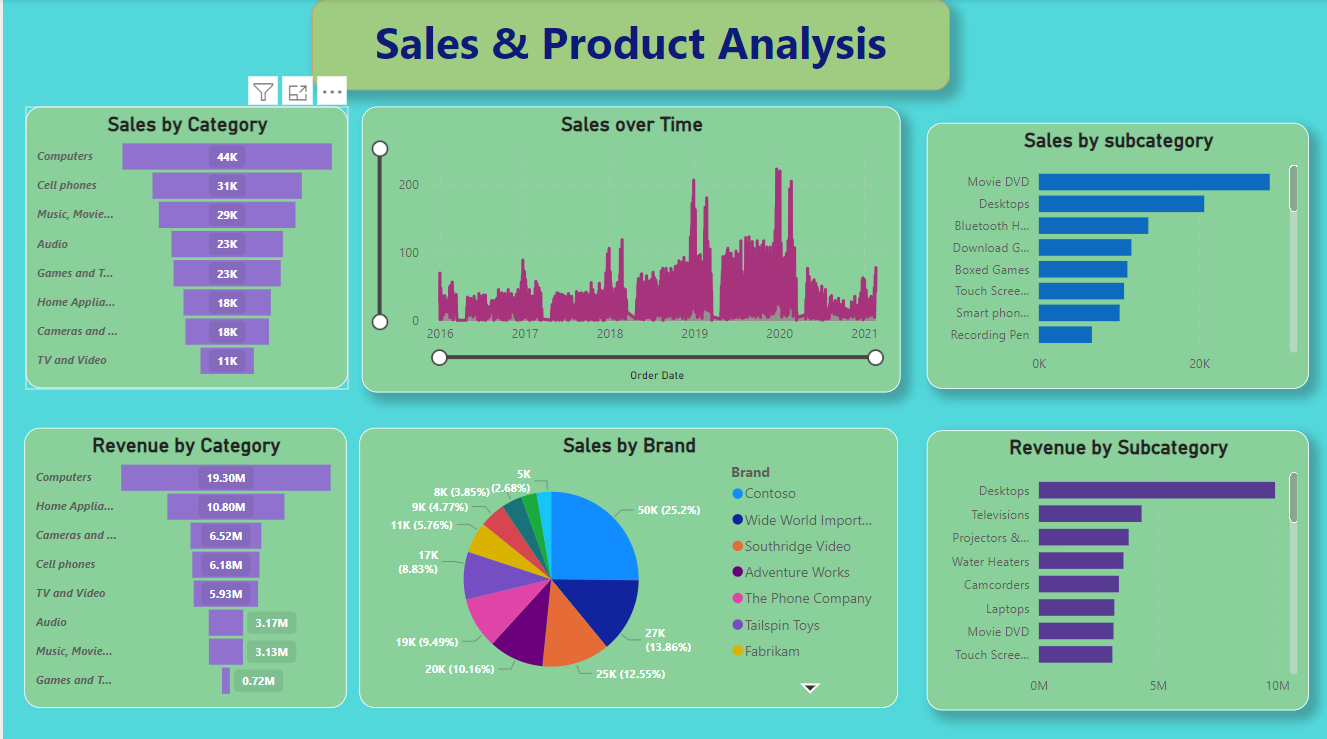

The page's visual inventory and layout, read from the dashboard file:
{"tool":"powerbi","page":{"name":"Sales Analysis","canvas":[1280,720],"ordinal":1},"visuals":[{"type":"textbox","box":[297.8,0,616.1,87.8],"z":0},{"type":"areaChart","title":"Sales over Time","fields":{"Y":["CountNonNull(sales.Order Number)"],"Category":["sales.Order Date"]},"box":[345.8,104.3,520.1,275.8],"z":1000},{"type":"funnel","title":"Revenue by Category","fields":{"Category":["products.Category"],"Y":["sales.Total Revenue"]},"box":[20.6,414.4,311.5,270.3],"z":3000},{"type":"clusteredBarChart","title":"Revenue by Subcategory","fields":{"Category":["products.Subcategory"],"Y":["sales.Total Revenue"]},"box":[891.9,415.8,369.1,270.3],"z":4000},{"type":"clusteredBarChart","title":"Sales by subcategory","fields":{"Category":["products.Subcategory"],"Y":["Sum(sales.Quantity)"]},"box":[891.9,119.4,369.1,256.6],"z":5000},{"type":"pieChart","title":"Sales by Brand ","fields":{"Category":["products.Brand"],"Y":["Sum(sales.Quantity)"]},"box":[344.4,414.4,520.1,270.3],"z":6000},{"type":"funnel","title":"Sales by Category","fields":{"Category":["products.Category"],"Y":["Sum(sales.Quantity)"]},"box":[22,104.3,311.5,271.7],"z":7000}]}

Visuals, with their boxes in screenshot pixels (x1, y1, x2, y2), scaled from the page's 1280x720 canvas onto the 1327x739 screenshot:
textbox: region(309, 0, 947, 90)
"Sales over Time" areaChart: region(358, 107, 898, 390)
"Revenue by Category" funnel: region(21, 425, 344, 703)
"Revenue by Subcategory" clusteredBarChart: region(925, 427, 1307, 704)
"Sales by subcategory" clusteredBarChart: region(925, 123, 1307, 386)
"Sales by Brand " pieChart: region(357, 425, 896, 703)
"Sales by Category" funnel: region(23, 107, 346, 386)
